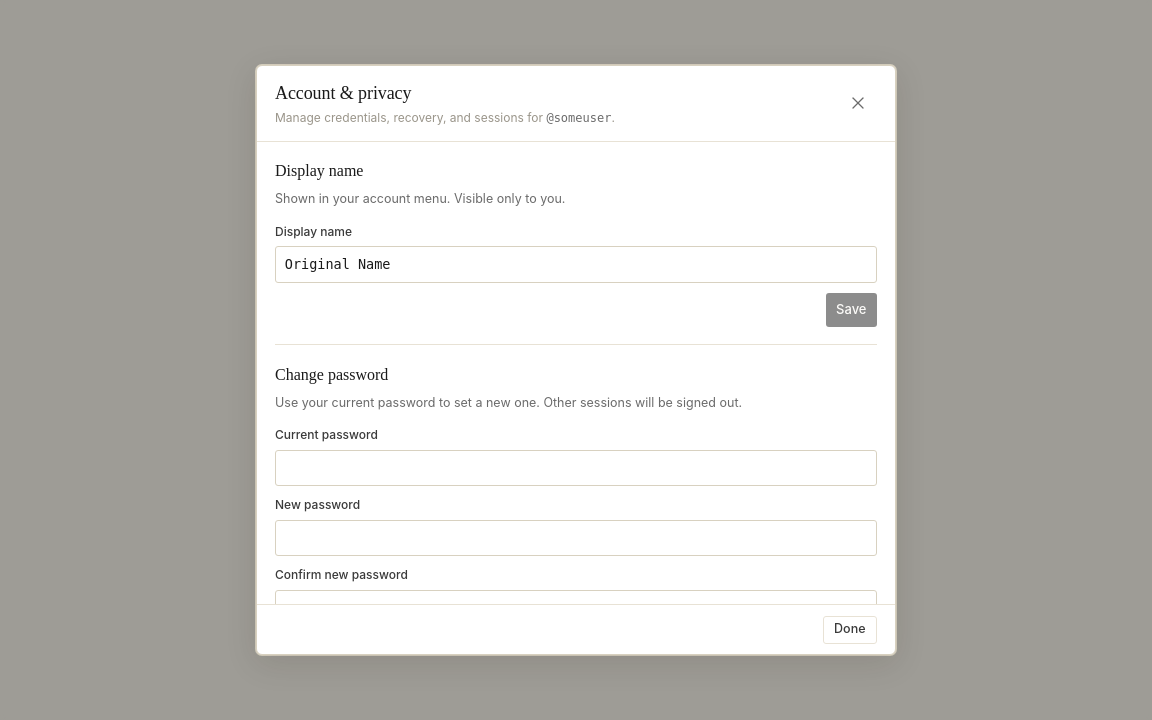
it: AccountPrivacyModal — Display name section › on 429: shows rate-limit error
Step 1. Replace the text in the field labelled "Display name" with "X" → (576, 264), box x1=275 y1=246 x2=877 y2=283
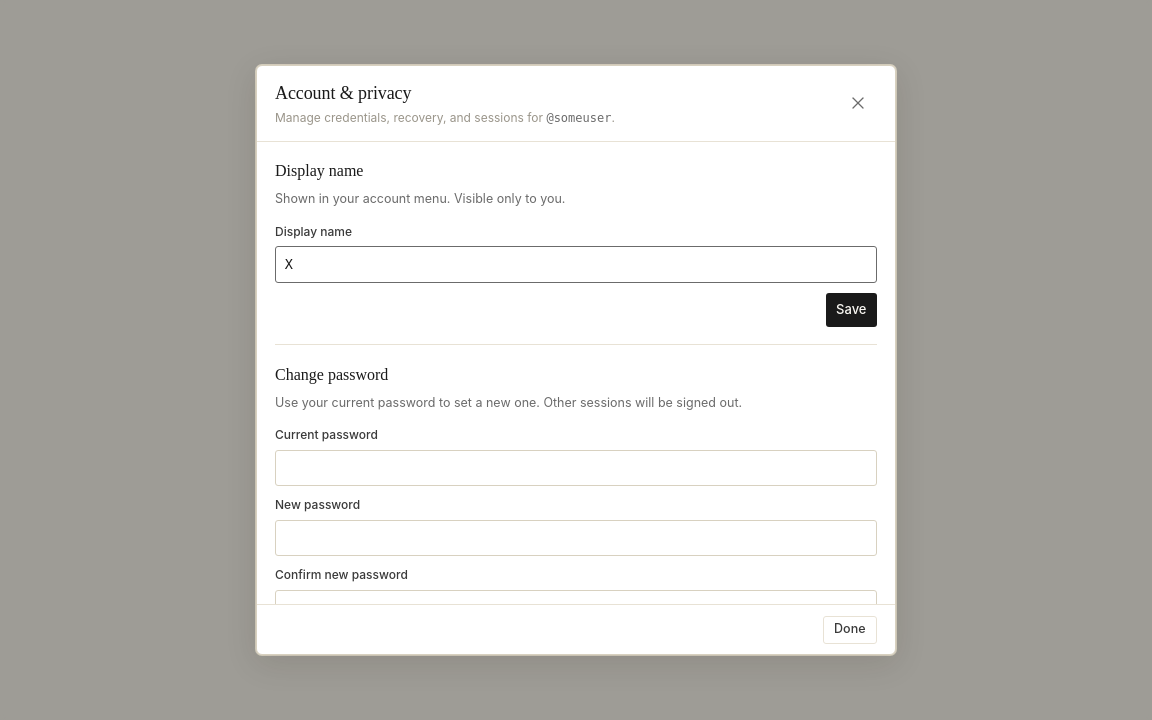
Step 2. Click the button with aria-label "save display name" → (851, 310), box x1=826 y1=293 x2=877 y2=326
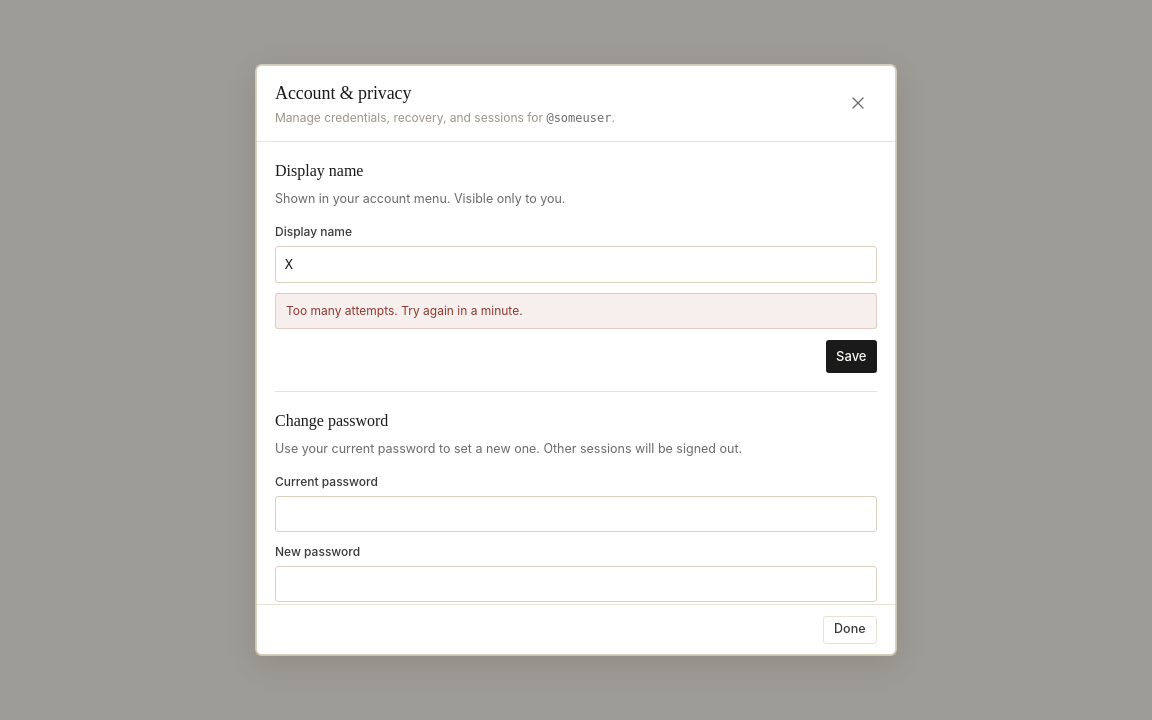
Check: the message shows "Too many", box x1=286 y1=303 x2=523 y2=318
